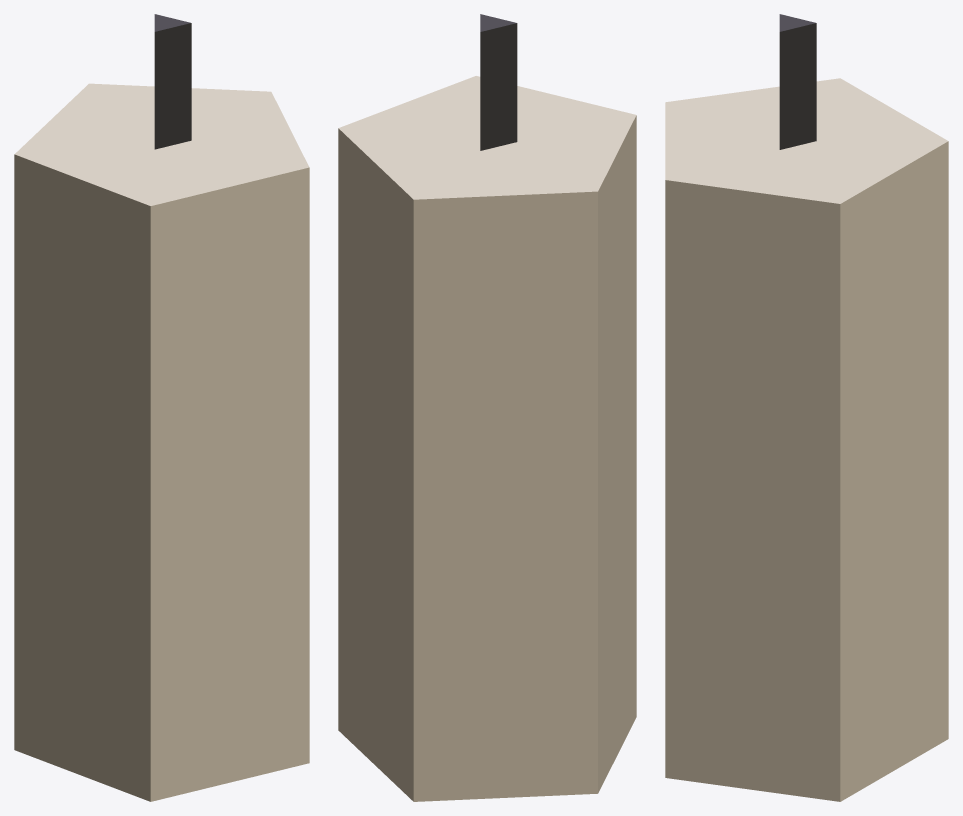
The model's file is TB_Prop_Candle_B.FBX.
The picture shows the model from 3 angles, left to right: view 1: azimuth 30°, elevation 25°; view 2: azimuth 150°, elevation 25°; view 3: azimuth 270°, elevation 25°; orthographic projection.
Parts seen in each view (by area): view 1: TB_Prop_Candle_B; view 2: TB_Prop_Candle_B; view 3: TB_Prop_Candle_B.
Part boxes in pixels (x1,y1,x2,y2): TB_Prop_Candle_B: (14, 14, 309, 801); TB_Prop_Candle_B: (338, 14, 636, 801); TB_Prop_Candle_B: (665, 14, 948, 801).
Size of the model in its own units: 0.1805 by 0.479 by 0.1717.
